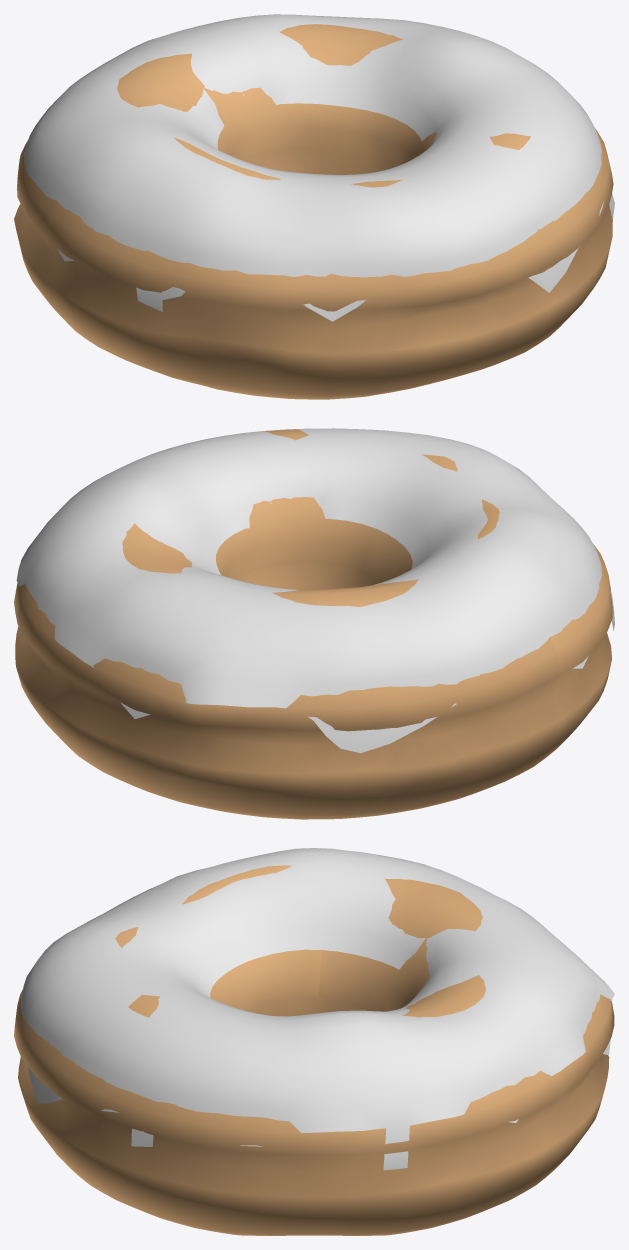
Rendered from Doughnu3t.gltf.
The picture shows the model from 3 angles, top to bottom: view 1: azimuth 30°, elevation 25°; view 2: azimuth 150°, elevation 25°; view 3: azimuth 270°, elevation 25°; orthographic projection. The views are drawn at different scales.
Visible parts, largest first — view 1: Icing.001, Doughnut; view 2: Icing.001, Doughnut; view 3: Icing.001, Doughnut.
Part boxes in pixels (bbox=[...]): Icing.001: bbox=[24, 14, 614, 321]; Doughnut: bbox=[14, 24, 613, 399]; Icing.001: bbox=[16, 428, 614, 753]; Doughnut: bbox=[14, 429, 612, 819]; Icing.001: bbox=[20, 848, 614, 1170]; Doughnut: bbox=[14, 865, 614, 1235].
Bounding box in the file's own units: 0.1594 × 0.0641 × 0.1627.
Materials: 1 (1 with a texture image).
